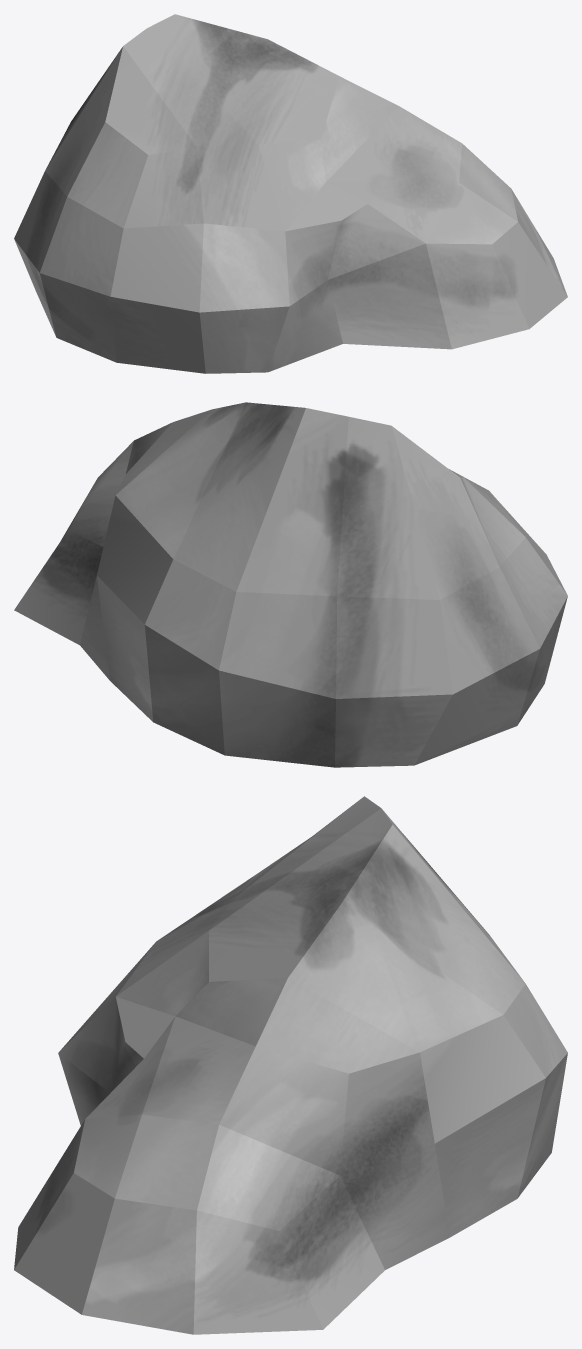
Rendered from Stone3.fbx.
3 renders of one model, top to bottom at view 1: azimuth 30°, elevation 25°; view 2: azimuth 150°, elevation 25°; view 3: azimuth 270°, elevation 25°, orthographic. The views are drawn at different scales.
Parts seen in each view (by area): view 1: Stone3; view 2: Stone3; view 3: Stone3.
Part boxes in pixels (x1=…): Stone3: x1=14, y1=14, x2=567, y2=373; Stone3: x1=14, y1=402, x2=567, y2=767; Stone3: x1=14, y1=796, x2=567, y2=1334.
Size of the model in its own units: 2.6 by 1.41 by 2.12.
